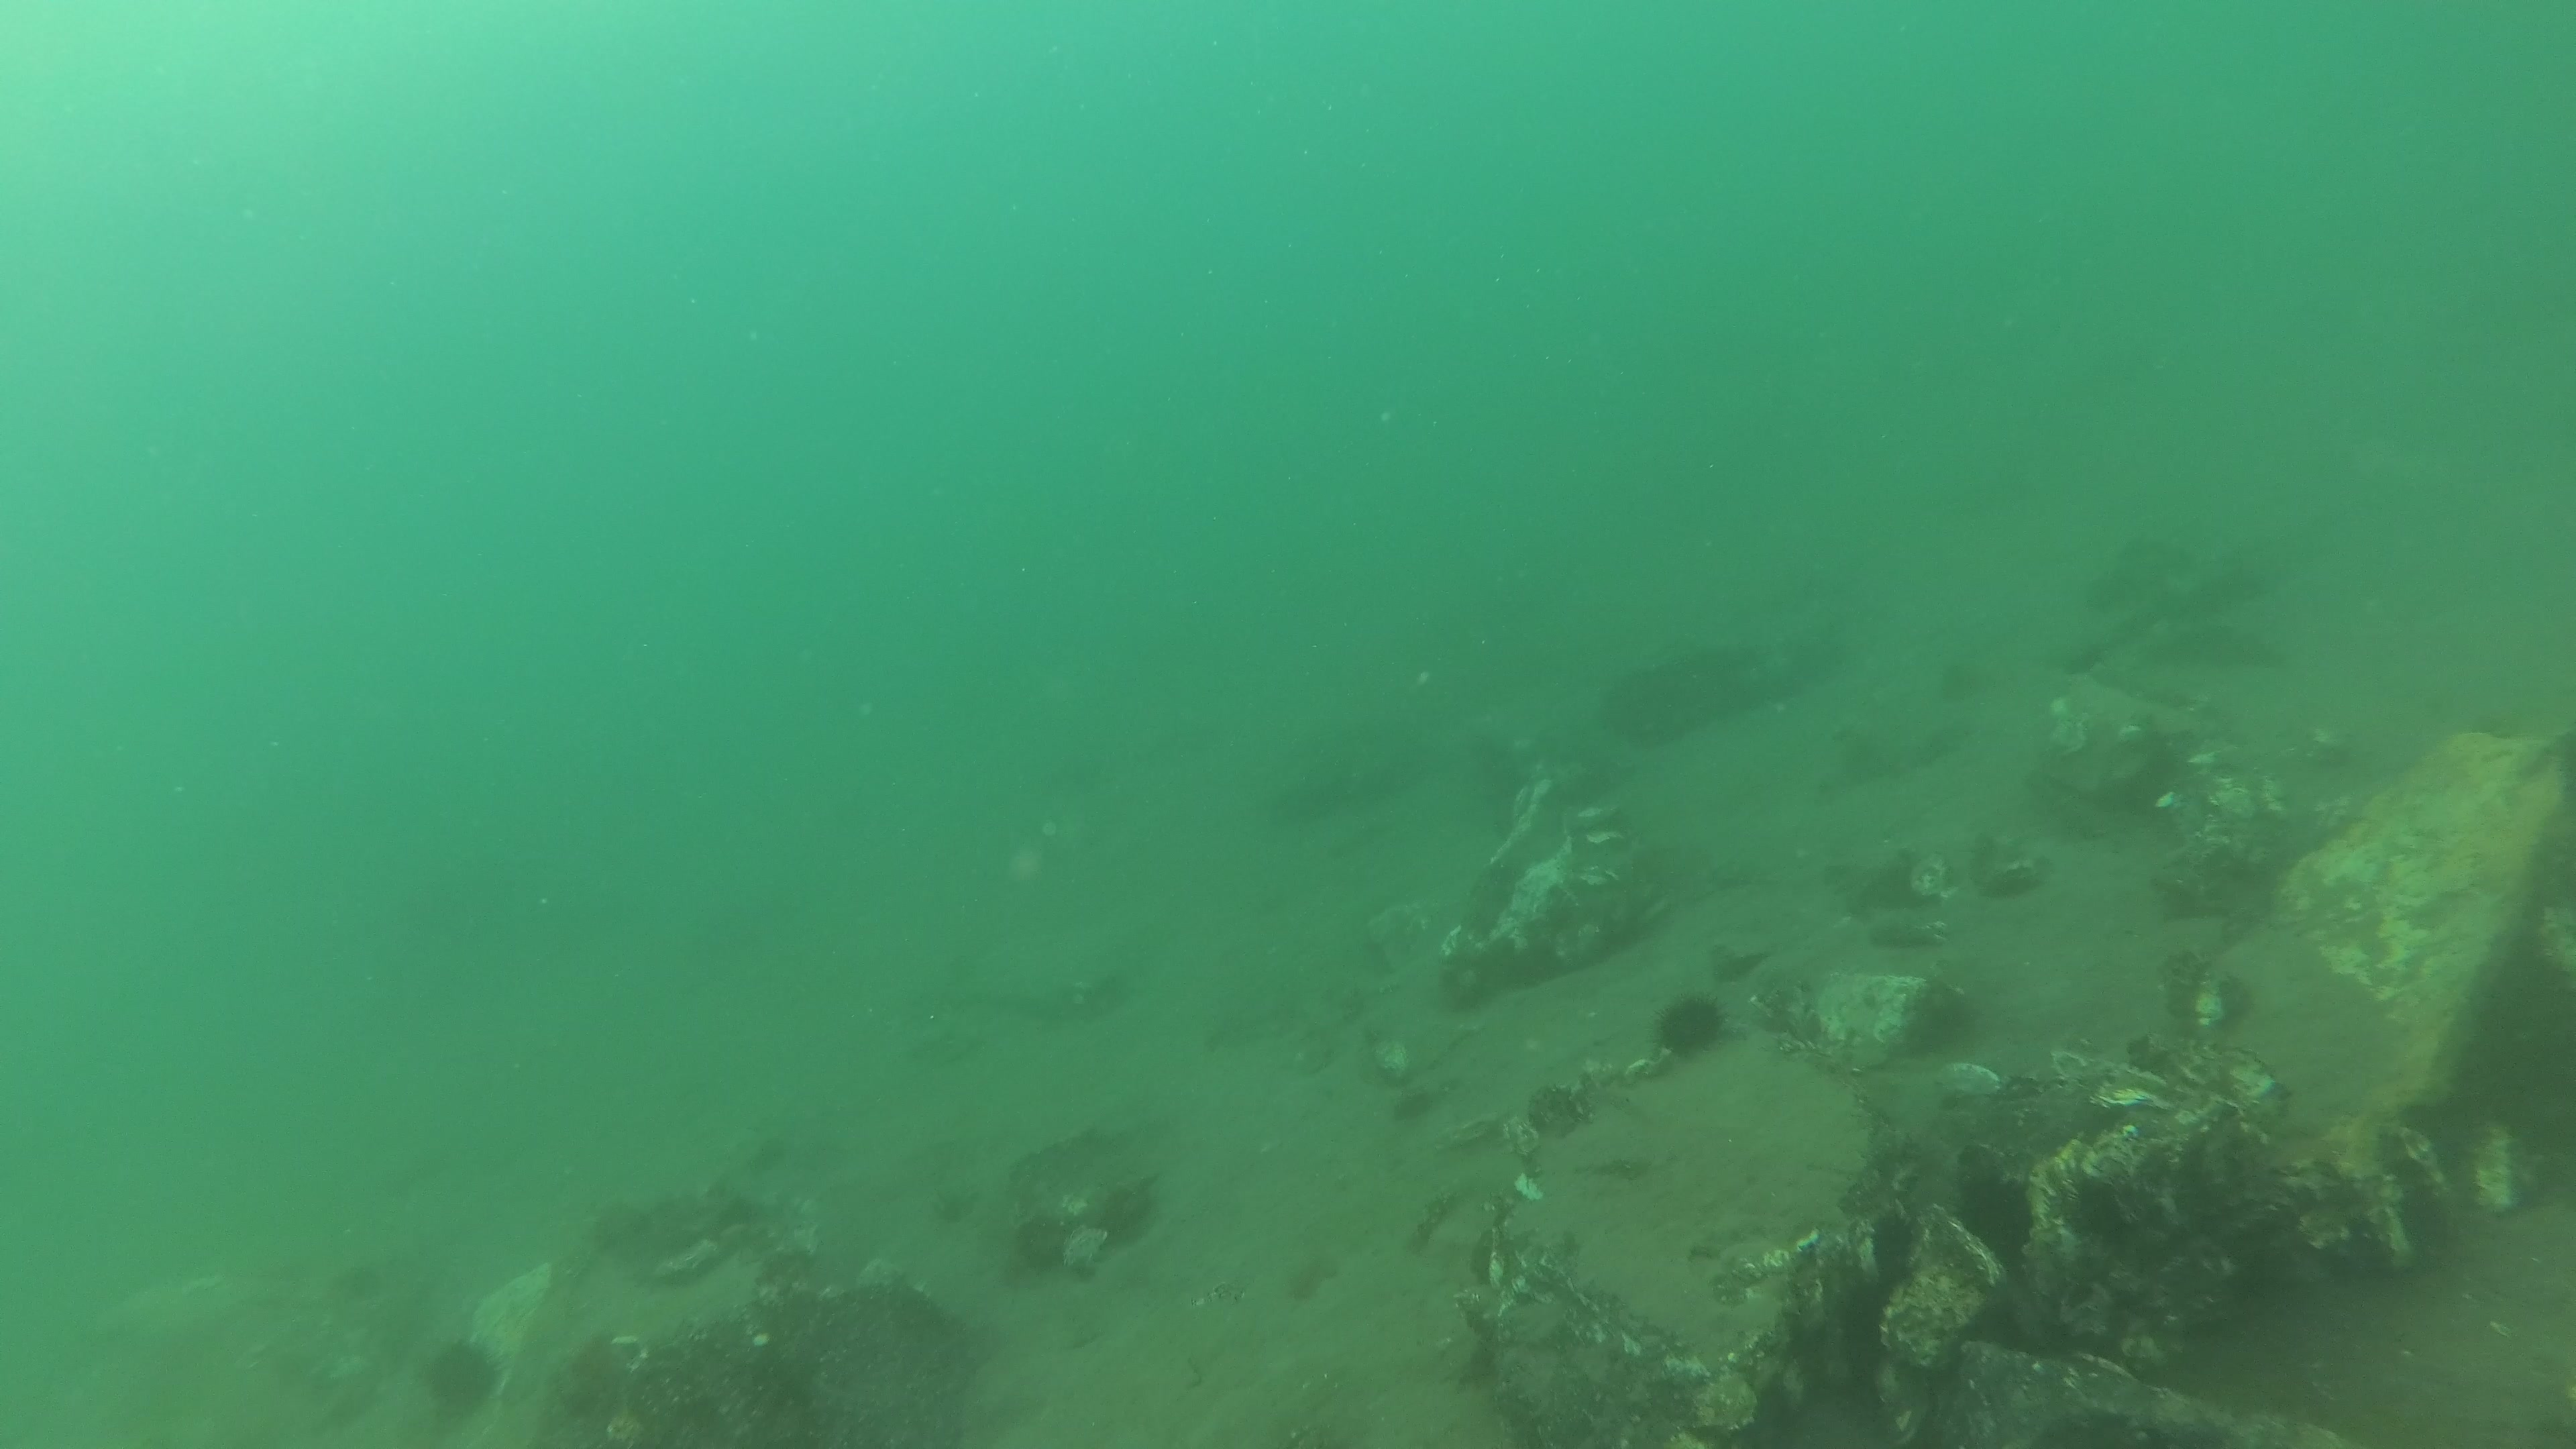echinus: (1948, 1171, 2038, 1283), (419, 1338, 506, 1417), (1647, 991, 1732, 1063), (2063, 1177, 2143, 1247), (1868, 1201, 1921, 1288), (1863, 863, 1937, 911), (925, 1185, 982, 1228), (2063, 640, 2111, 678)
scallop: (1930, 1060, 2005, 1102)
